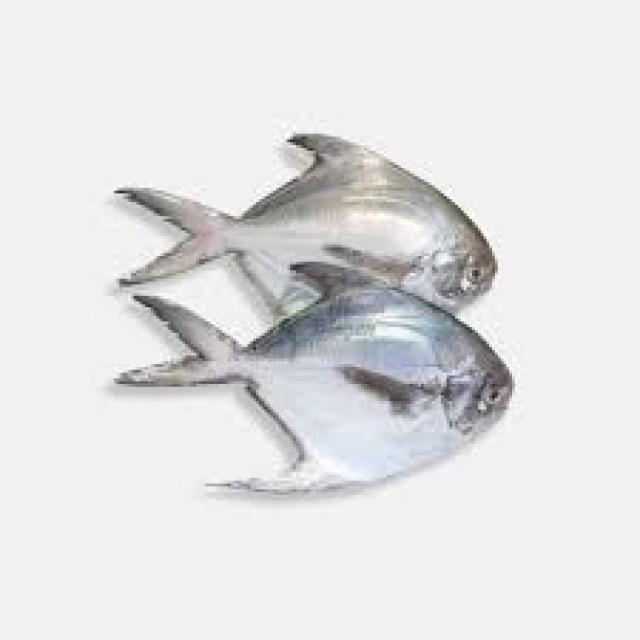pomfred: (125, 263, 514, 495), (113, 136, 508, 315)
